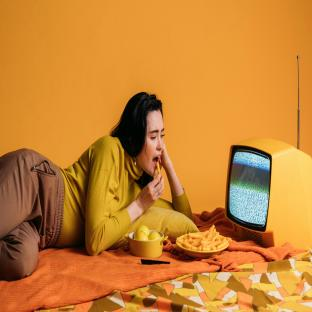Human: (0, 92, 198, 281)
